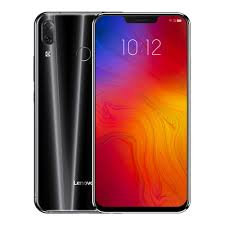lenovo: (90, 10, 193, 213), (32, 11, 90, 212)
